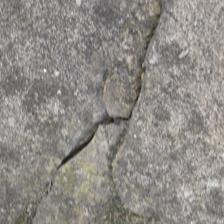Crack: (0, 40, 84, 154), (21, 13, 103, 121), (64, 44, 155, 74)
